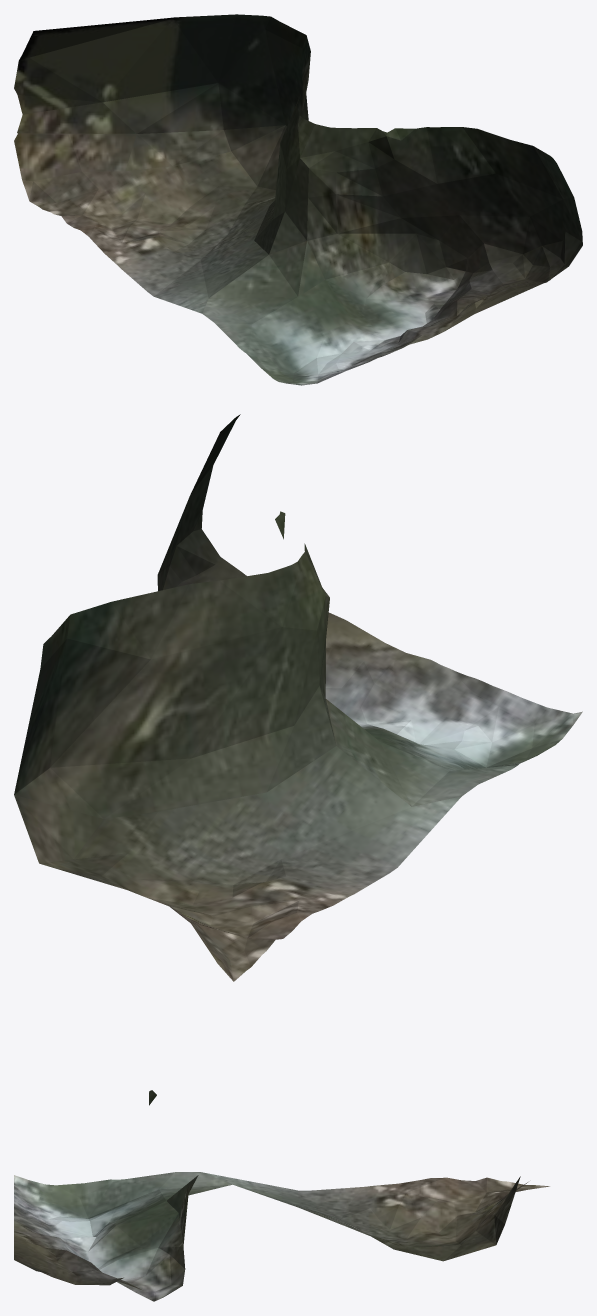
The picture shows the model from 3 angles, top to bottom: view 1: azimuth 30°, elevation 25°; view 2: azimuth 150°, elevation 25°; view 3: azimuth 270°, elevation 25°; orthographic projection. The views are drawn at different scales.
Size of the model in its own units: 7.09 by 4.34 by 11.8.
2 materials, 2 textured.
